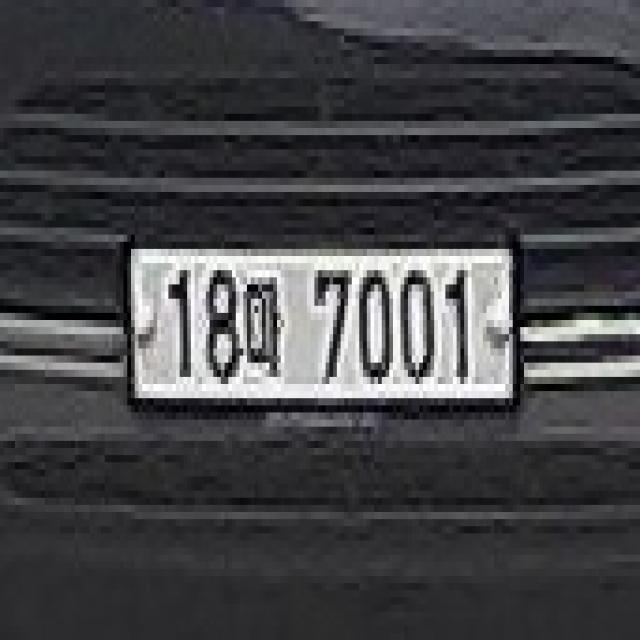0: (393, 256, 434, 405), (356, 263, 393, 391)
1: (438, 263, 479, 398), (164, 256, 194, 391)
7: (310, 256, 352, 398)
8: (198, 256, 240, 398)
license_plate: (120, 228, 524, 427)
ma: (243, 270, 288, 384)
